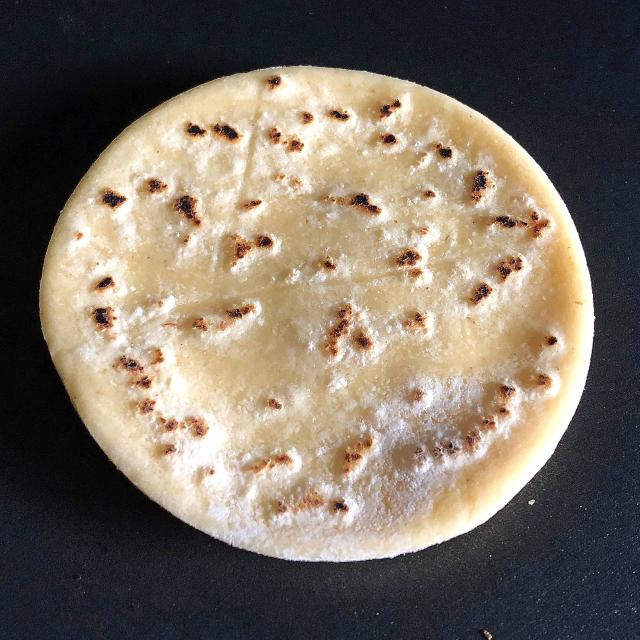ROTI: (36, 65, 578, 558)
